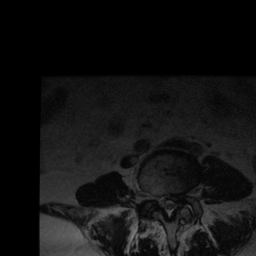CCS_normal: (166, 189, 172, 221)
LFS_severe_stenosis: (179, 186, 185, 206)
LLS_severe_stenosis: (173, 189, 179, 215)
RFS_severe_stenosis: (152, 188, 159, 209)
RLS_normal: (159, 189, 166, 213)
